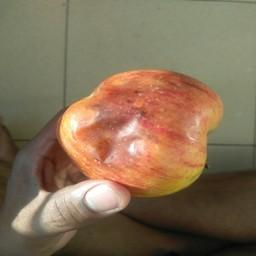Bad_apple: (58, 70, 217, 192)
